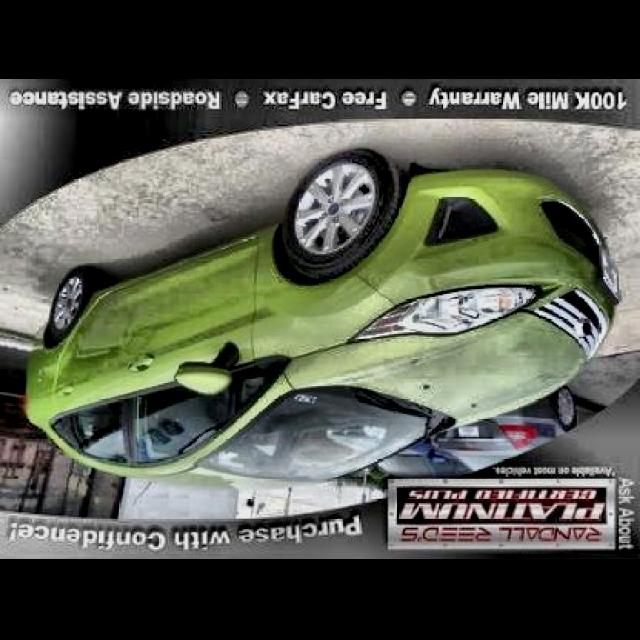green: (0, 184, 626, 473)
